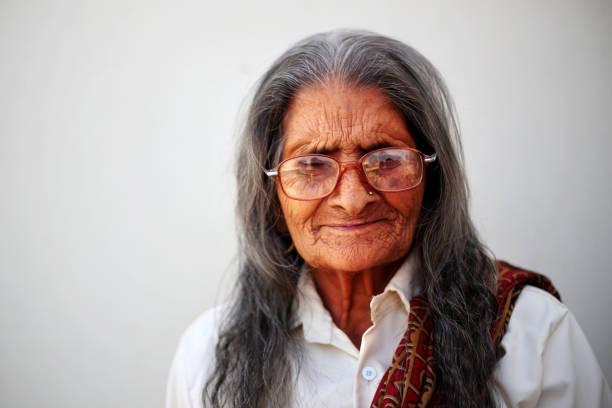Human: (178, 29, 612, 408)
